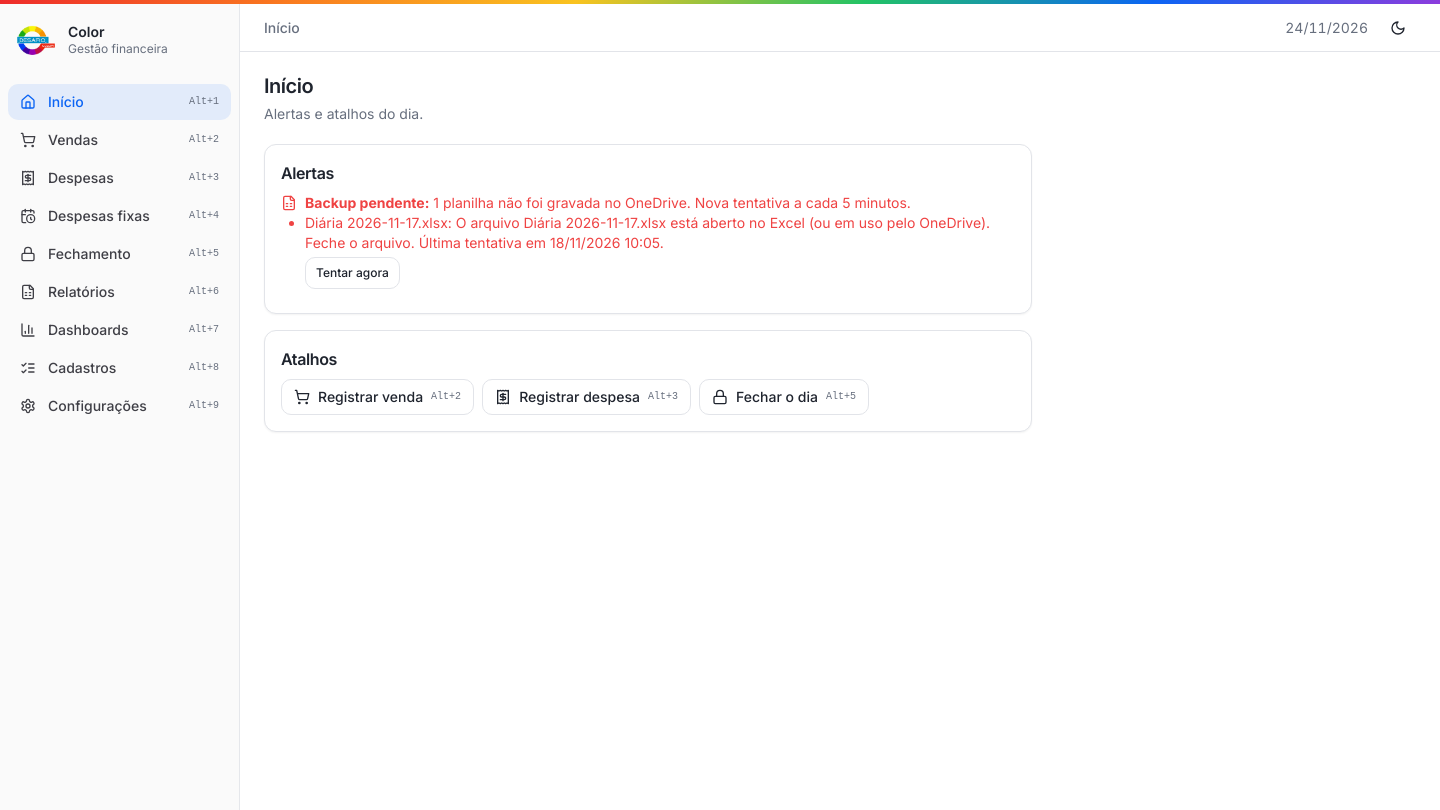
it: FR-30: Início shows the exports that could not be written › FR-30: the still-failing message goes away when the list is refreshed
Click the button "Tentar agora".
click(352, 273)  # box top-left (305, 257), bottom-right (400, 289)
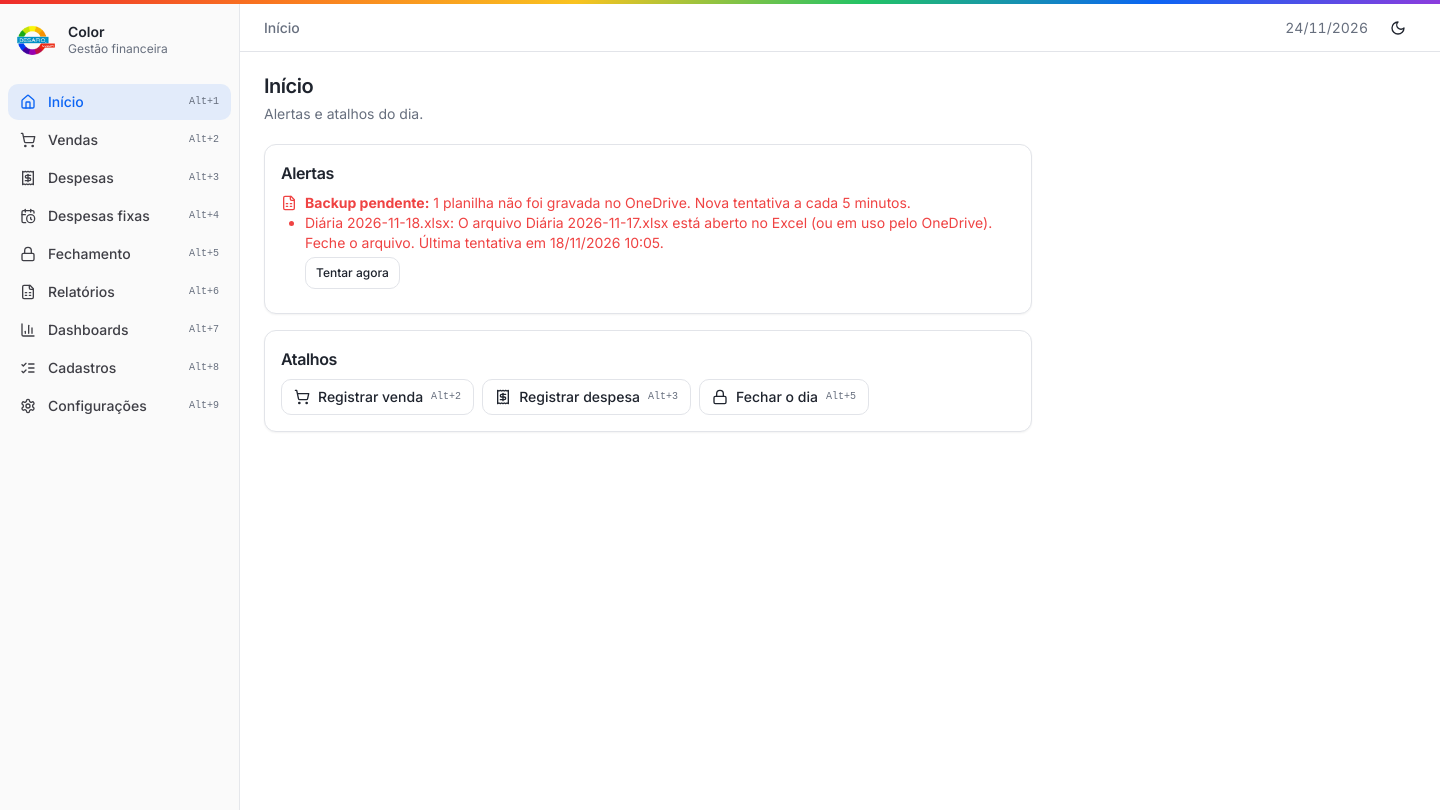
Expected: the text "Diária 2026-11-18.xlsx:" is shown, top-left (305, 213), bottom-right (1015, 253)
